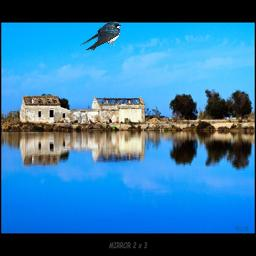Swallow: (80, 21, 121, 51)
